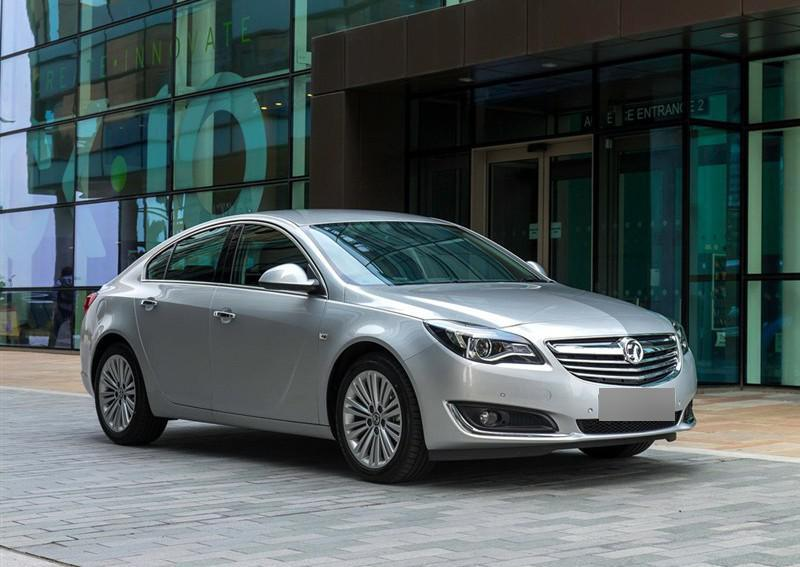Wagon: (78, 208, 700, 485)
